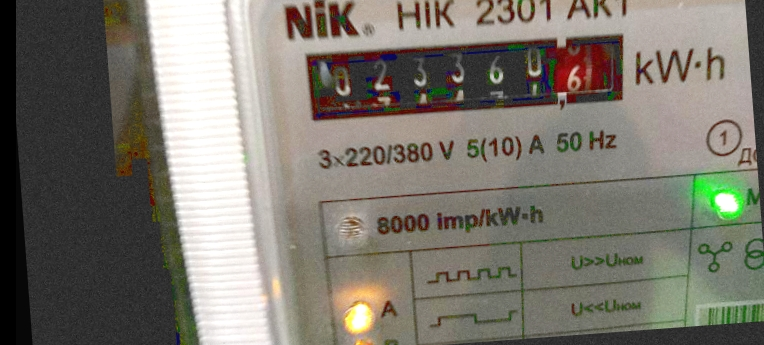0: (522, 42, 547, 79), (330, 61, 354, 97)
2: (370, 56, 393, 92)
3: (408, 53, 431, 89), (447, 49, 468, 85)
6: (484, 49, 507, 85), (563, 59, 584, 93)
screen: (291, 16, 649, 141)
